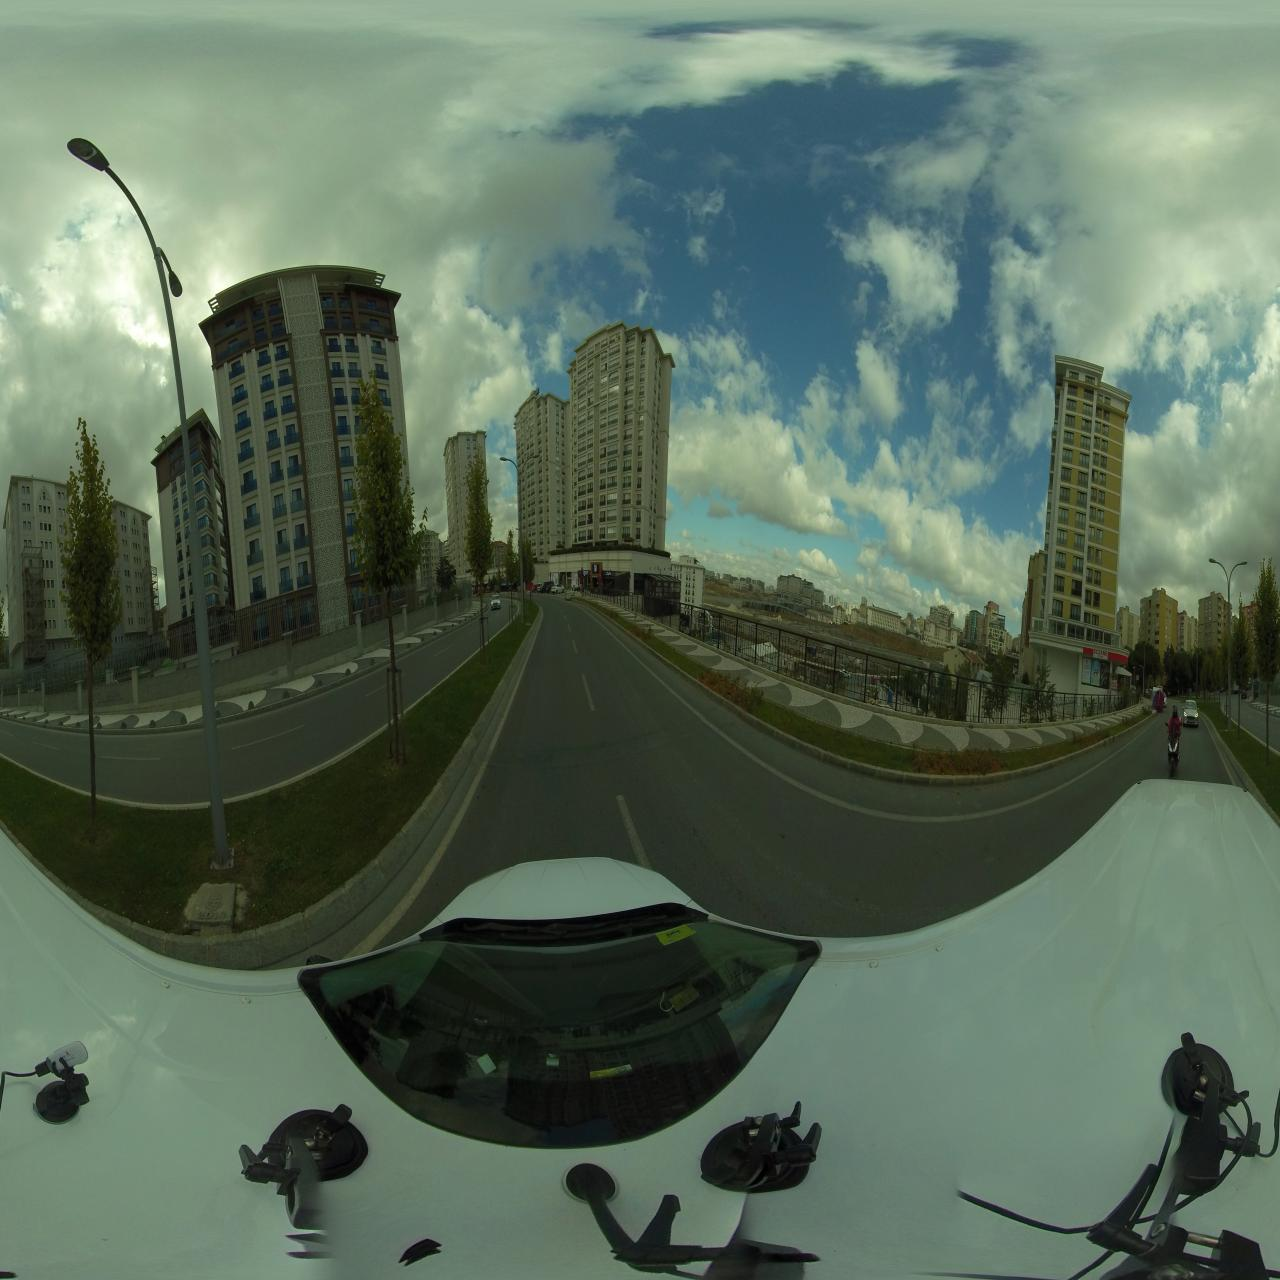SignStore: (1094, 648, 1108, 660)
